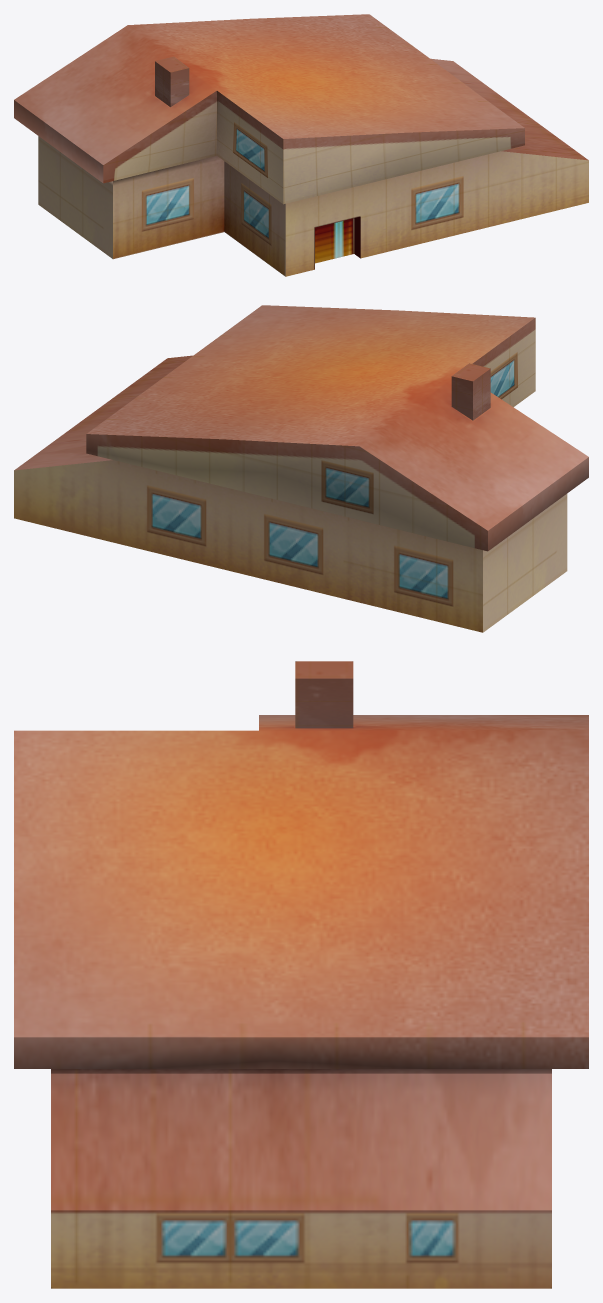
The model's file is House_v03.fbx.
3 views of the same model, one above another, from view 1: azimuth 30°, elevation 25°; view 2: azimuth 150°, elevation 25°; view 3: azimuth 270°, elevation 25° (orthographic). The views are drawn at different scales.
Visible parts, largest first — view 1: House_v03; view 2: House_v03; view 3: House_v03.
Boxes of the visible parts, x1=… form: House_v03: x1=14, y1=14, x2=588, y2=276; House_v03: x1=14, y1=305, x2=588, y2=632; House_v03: x1=14, y1=661, x2=588, y2=1288.
Size of the model in its own units: 8.66 by 3.23 by 5.44.
